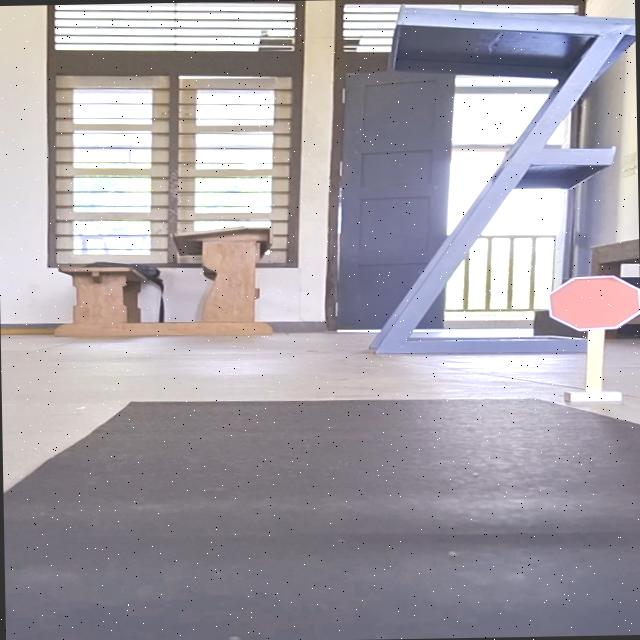Stop: (545, 273, 640, 333)
